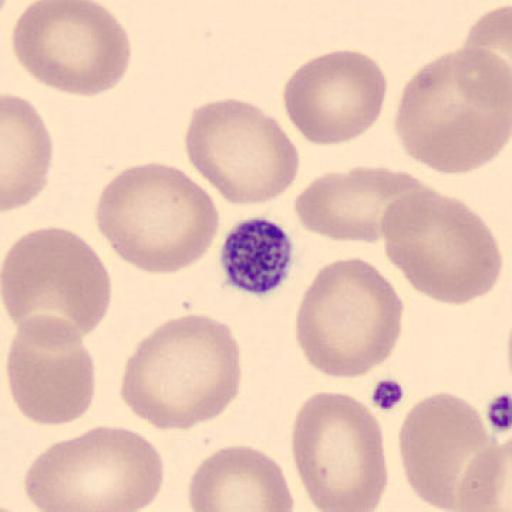Platelet: (217, 214, 296, 297)
RBC: (392, 46, 512, 176), (380, 186, 503, 308), (120, 312, 244, 431), (95, 159, 221, 275), (294, 256, 404, 382), (183, 96, 301, 206), (22, 423, 166, 512), (1, 224, 113, 337), (289, 389, 389, 512), (10, 0, 132, 99), (396, 390, 490, 511), (292, 165, 430, 244), (282, 48, 390, 148), (5, 313, 97, 427), (186, 443, 296, 512), (1, 91, 54, 212), (461, 2, 512, 90), (455, 437, 512, 512)
